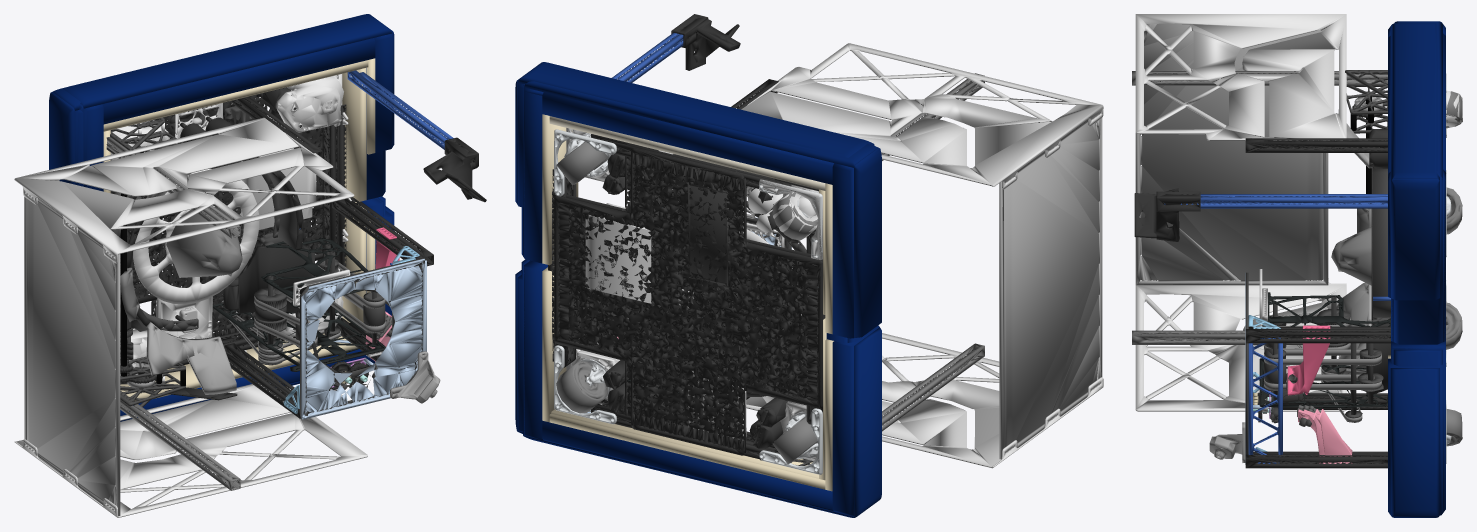
The picture shows the model from 3 angles, left to right: view 1: azimuth 30°, elevation 25°; view 2: azimuth 150°, elevation 25°; view 3: azimuth 270°, elevation 25°; orthographic projection. The views are drawn at different scales.
Visible parts, largest first — view 1: color_8, color_0, color_21, color_3, color_4, color_22, color_1, color_6, color_15, color_32, color_10, color_29 (+7 smaller); view 2: color_3, color_21, color_8, color_0, color_22, color_1, color_26, color_9, color_10, color_24, color_7, color_25; view 3: color_8, color_0, color_21, color_3, color_1, color_7, color_15, color_32, color_29, color_10, color_28, color_27 (+3 smaller).
Boxes of the visible parts, x1,y1,x2,y2 form: color_8: (14,74,367,517); color_0: (24,135,440,516); color_21: (49,14,394,421); color_3: (110,84,486,418); color_4: (301,258,426,419); color_22: (103,58,375,401); color_1: (106,89,290,490); color_6: (133,103,351,364); color_15: (106,117,391,412); color_32: (212,238,385,371); color_10: (120,87,376,386); color_29: (228,262,385,364); color_3: (548,14,825,459); color_21: (515,62,881,517); color_8: (566,43,1103,468); color_0: (762,118,1102,459); color_22: (542,114,833,491); color_1: (556,73,984,464); color_26: (554,129,822,474); color_9: (687,182,732,286); color_10: (602,154,803,448); color_24: (549,116,825,190); color_7: (612,32,683,82); color_25: (564,133,818,458); color_8: (1135,14,1462,411); color_0: (1135,23,1382,462); color_21: (1388,21,1445,517); color_3: (1134,138,1390,468); color_1: (1132,71,1462,446); color_7: (1164,194,1390,463); color_15: (1288,70,1390,426); color_32: (1259,292,1390,407); color_29: (1264,312,1381,421); color_10: (1257,104,1387,414); color_28: (1264,309,1383,422); color_27: (1287,325,1330,395).
Bounding box in the file's own units: 1.11 × 0.8802 × 0.763.
